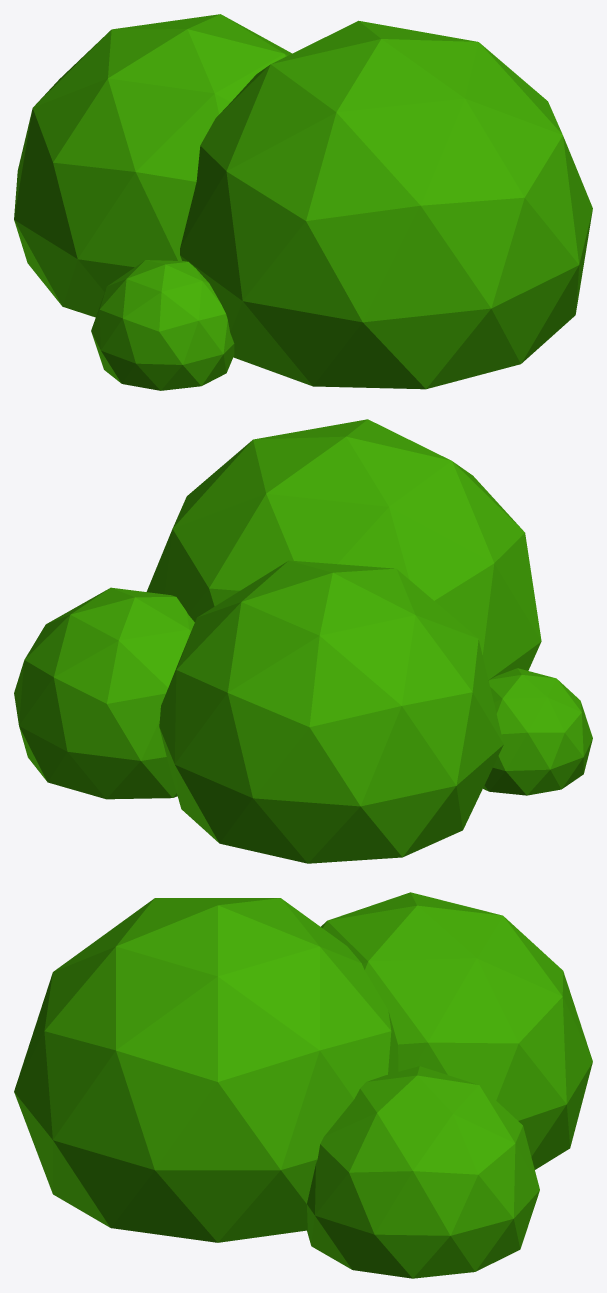
Rendered from bush1.fbx.
3 renders of one model, top to bottom at view 1: azimuth 30°, elevation 25°; view 2: azimuth 150°, elevation 25°; view 3: azimuth 270°, elevation 25°, orthographic. The views are drawn at different scales.
Parts seen in each view (by area): view 1: Icosphere; view 2: Icosphere; view 3: Icosphere.
Part boxes in pixels (x1=…): Icosphere: x1=14, y1=14, x2=592, y2=390; Icosphere: x1=14, y1=419, x2=592, y2=863; Icosphere: x1=14, y1=892, x2=592, y2=1278.
Bounding box in the file's own units: 266 × 159 × 284.
